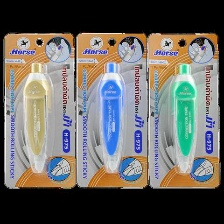book: (0, 30, 77, 192), (75, 31, 149, 191), (148, 30, 220, 190)
correction_fluid: (20, 62, 54, 174), (95, 60, 125, 175), (169, 62, 198, 176)
